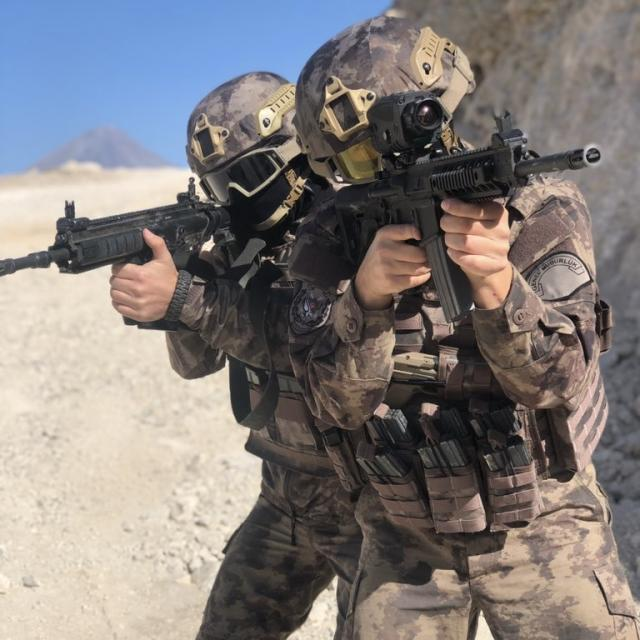poh_personel: (295, 9, 638, 640), (110, 70, 358, 640)
